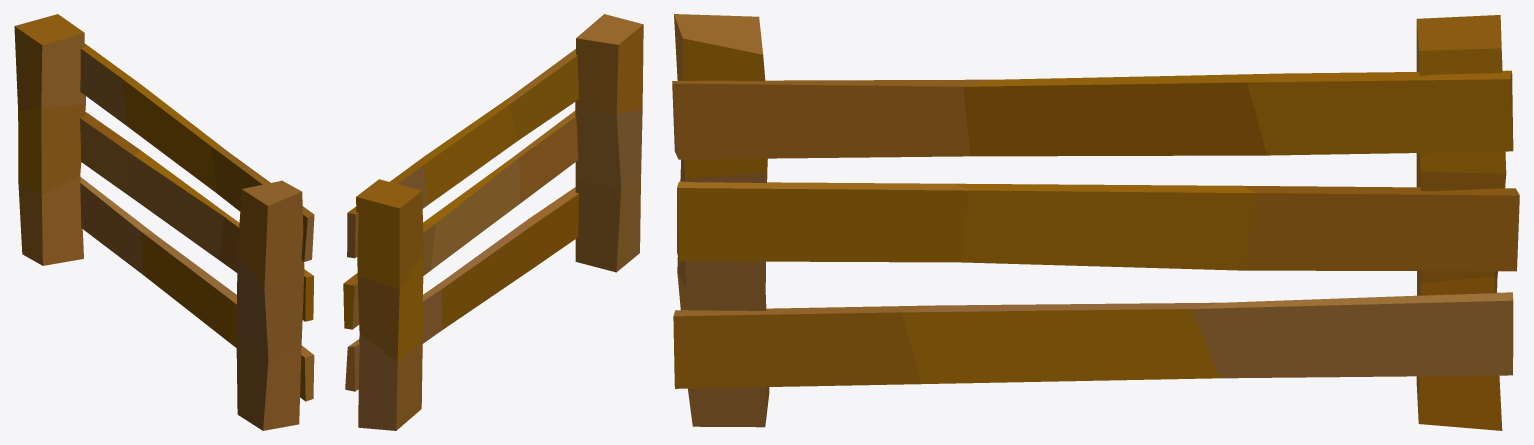
Rendered from Fence.glb.
3 renders of one model, left to right at view 1: azimuth 30°, elevation 25°; view 2: azimuth 150°, elevation 25°; view 3: azimuth 270°, elevation 25°, orthographic. The views are drawn at different scales.
Parts seen in each view (by area): view 1: Fence; view 2: Fence; view 3: Fence.
Boxes of the visible parts, <box> form: Fence: <box>14,14,314,430</box>; Fence: <box>343,14,643,430</box>; Fence: <box>672,14,1519,430</box>.
Bounding box in the file's own units: 0.2011 × 0.8499 × 1.67.
